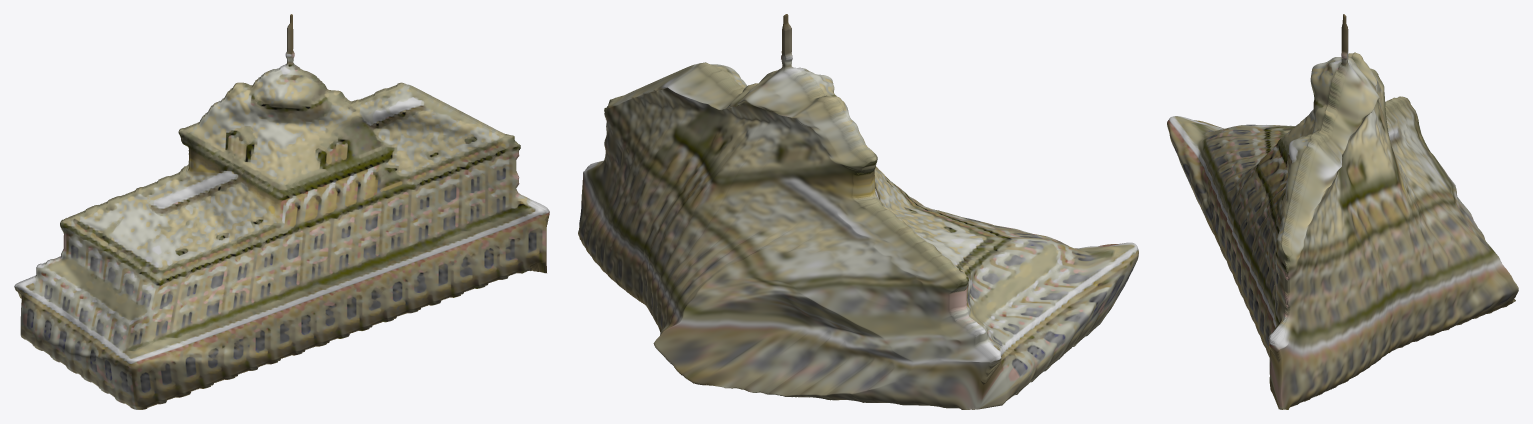
File: kremlin_palace.glb
3 renders of one model, left to right at view 1: azimuth 30°, elevation 25°; view 2: azimuth 150°, elevation 25°; view 3: azimuth 270°, elevation 25°, orthographic. The views are drawn at different scales.
Visible parts, largest first — view 1: kremlin_palace; view 2: kremlin_palace; view 3: kremlin_palace.
Part boxes in pixels (x1,y1,x2,y2): kremlin_palace: (14,14,549,409); kremlin_palace: (578,14,1138,409); kremlin_palace: (1167,14,1518,409).
Bounding box in the file's own units: 2.38 × 1.38 × 1.53.
